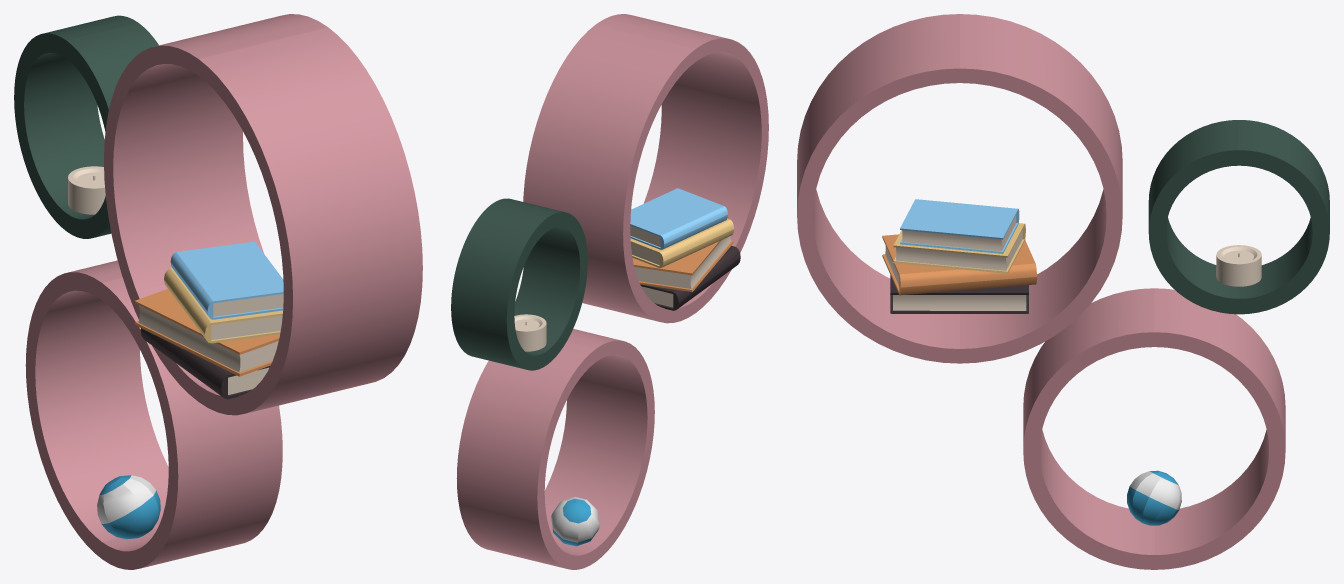
Rendered from Furn1_bookcase_right_color2_joined.fbx.
3 views of the same model, side by side, from view 1: azimuth 30°, elevation 25°; view 2: azimuth 150°, elevation 25°; view 3: azimuth 270°, elevation 25° (orthographic). The views are drawn at different scales.
Visible parts, largest first — view 1: Куб.030; view 2: Куб.030; view 3: Куб.030.
Boxes of the visible parts, x1,y1,x2,y2 form: Куб.030: (14, 14, 422, 569); Куб.030: (451, 14, 768, 569); Куб.030: (797, 14, 1329, 569).
Bounding box in the file's own units: 76.83 × 270 × 258.
